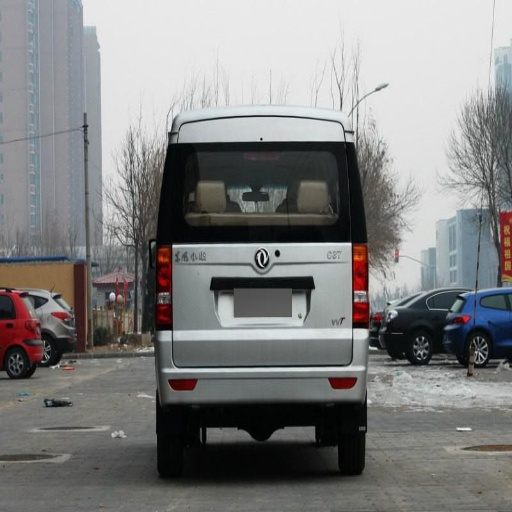back_bumper: (156, 344, 364, 404)
tailgate: (218, 219, 320, 242)
trunk: (176, 238, 352, 366)
